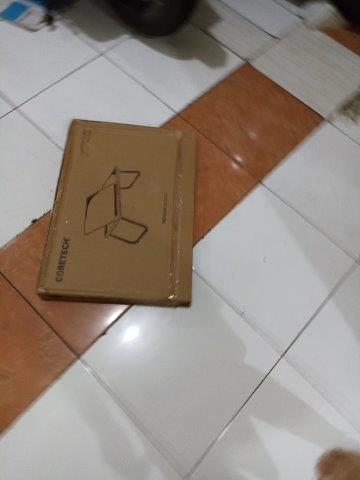kardus: (37, 120, 196, 306)
